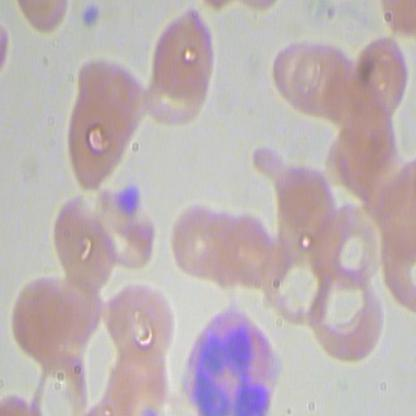Platelets: (116, 180, 145, 212), (75, 1, 102, 29)
RBC: (57, 50, 151, 192), (305, 263, 389, 364), (261, 237, 335, 329), (311, 198, 385, 290), (103, 272, 175, 366), (7, 270, 79, 364), (149, 6, 220, 101), (50, 196, 122, 289), (168, 195, 239, 289)
WBC: (175, 306, 286, 415)
